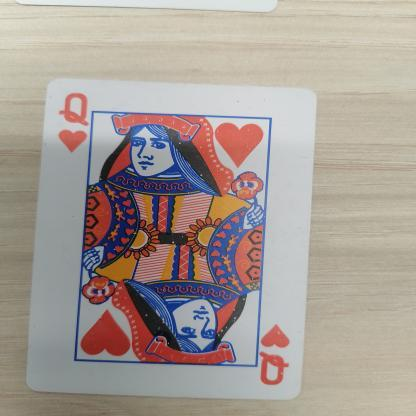QH: (46, 81, 106, 167), (252, 317, 308, 393)
